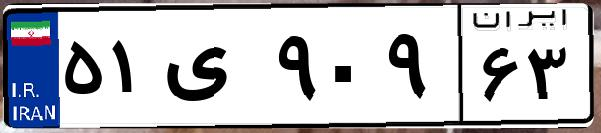0: (330, 28, 385, 110)
1: (110, 28, 158, 98)
3: (525, 38, 570, 115)
5: (57, 26, 110, 100)
6: (475, 38, 525, 113)
9: (270, 28, 330, 110), (385, 28, 445, 110)
ی: (158, 20, 270, 120)
